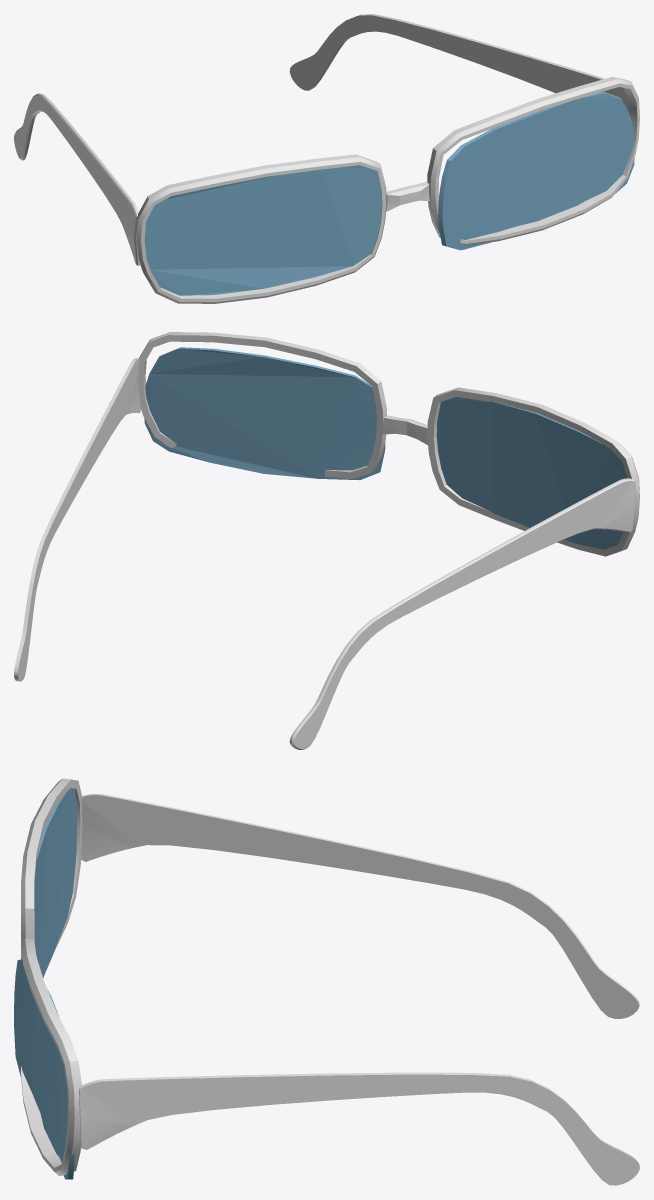
The model's file is Glasses_01.FBX.
The picture shows the model from 3 angles, top to bottom: view 1: azimuth 30°, elevation 25°; view 2: azimuth 150°, elevation 25°; view 3: azimuth 270°, elevation 25°; orthographic projection. The views are drawn at different scales.
Visible parts, largest first — view 1: Object001, Object002, Box001, Line002; view 2: Object002, Box001, Object001, Line002; view 3: Box001, Line002, Object002, Object001.
Boxes of the visible parts, left/top/right/bottom form: Object001: left=144, top=165, right=381, bottom=295; Object002: left=438, top=92, right=634, bottom=250; Box001: left=14, top=76, right=639, bottom=303; Line002: left=289, top=14, right=628, bottom=112; Object002: left=144, top=347, right=385, bottom=480; Box001: left=138, top=332, right=639, bottom=749; Object001: left=436, top=397, right=627, bottom=549; Line002: left=14, top=358, right=140, bottom=681; Box001: left=21, top=778, right=639, bottom=1175; Line002: left=79, top=1072, right=639, bottom=1185; Object002: left=14, top=959, right=74, bottom=1179; Object001: left=34, top=788, right=77, bottom=977.
Size of the model in its own units: 67.57 by 21.37 by 60.65.
